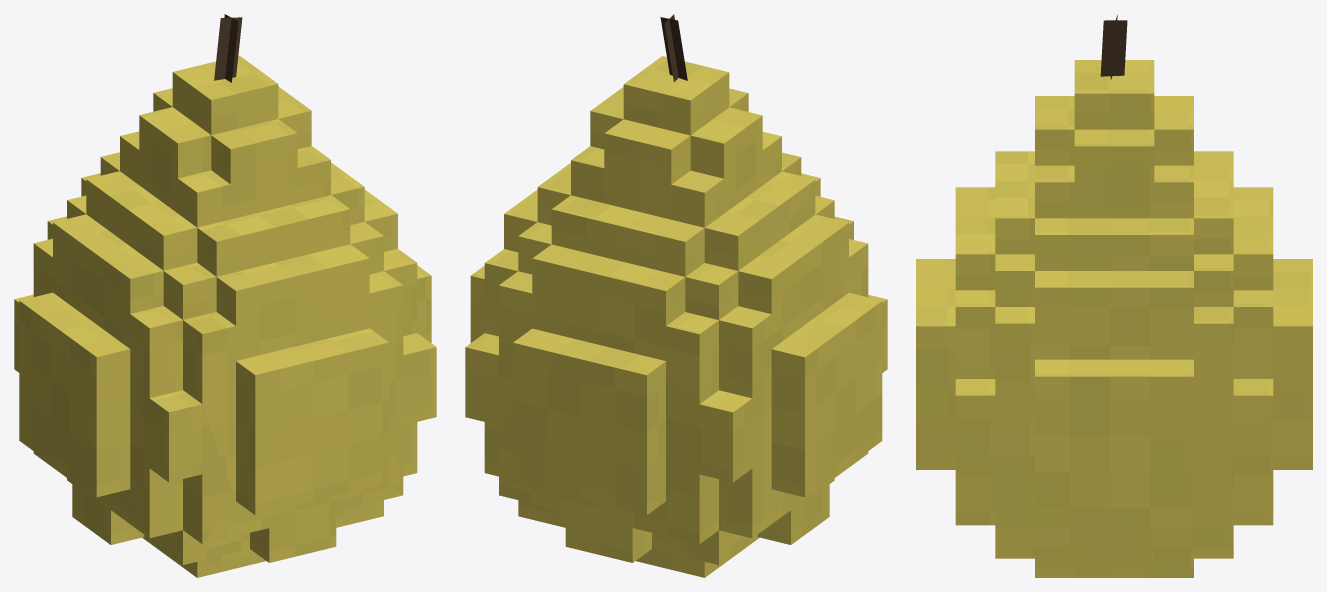
Rendered from Pear.fbx.
3 renders of one model, left to right at view 1: azimuth 30°, elevation 25°; view 2: azimuth 150°, elevation 25°; view 3: azimuth 270°, elevation 25°, orthographic. The views are drawn at different scales.
Visible parts, largest first — view 1: Pear; view 2: Pear; view 3: Pear.
Part boxes in pixels (bbox=[...]): Pear: bbox=[14, 14, 436, 577]; Pear: bbox=[465, 14, 887, 577]; Pear: bbox=[916, 15, 1312, 577].
Size of the model in its own units: 183 by 268 by 183.
1 material, 1 textured.
